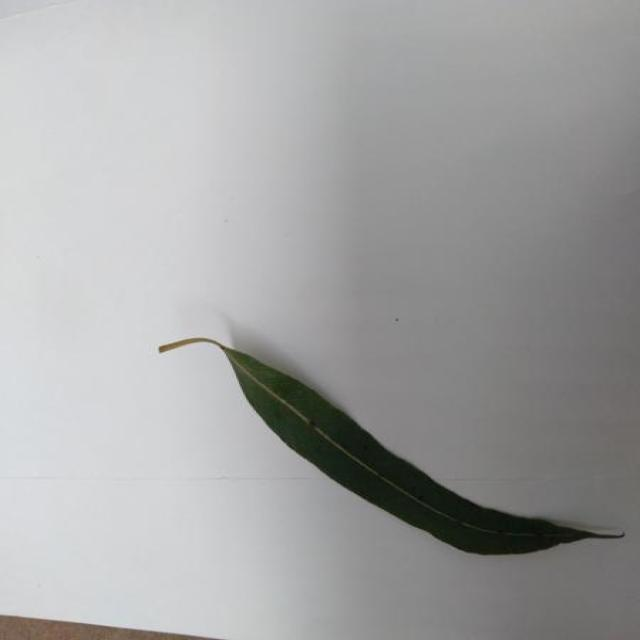eucalpytus: (158, 338, 623, 553)
